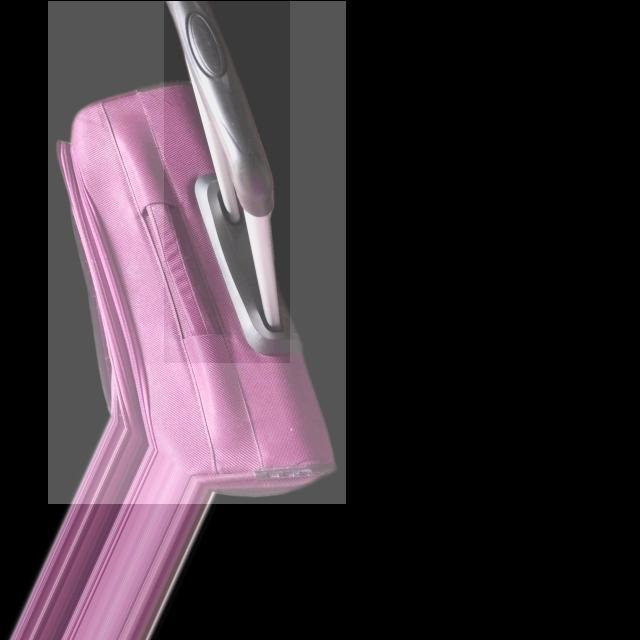Suitcase: (51, 0, 344, 513)
